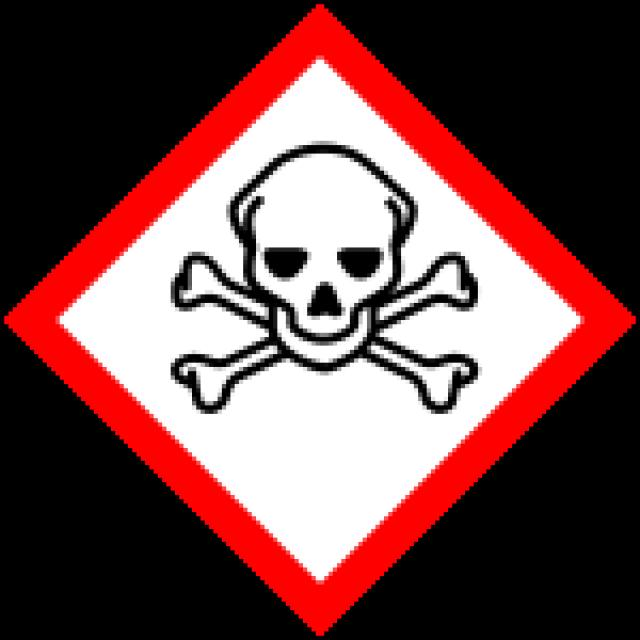GHS06- Toxic: (4, 4, 640, 640)
